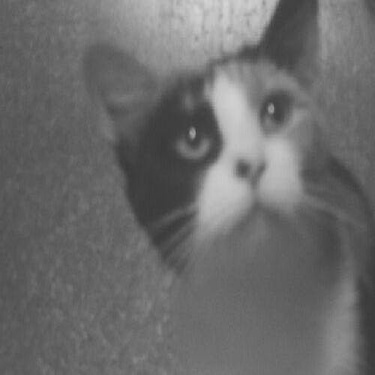cat: (81, 1, 370, 372)
